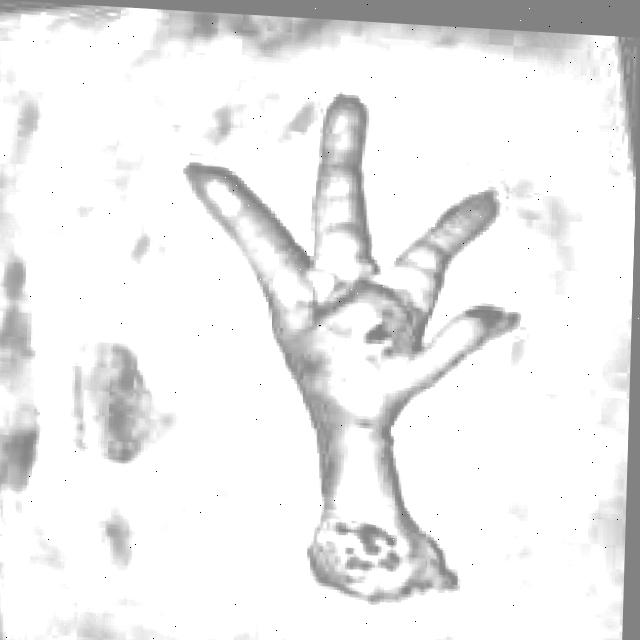Bumble foot: (172, 76, 527, 603), (332, 511, 410, 571)
